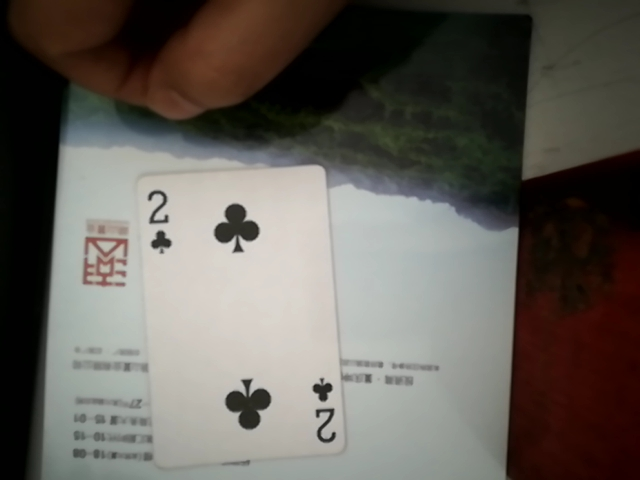mh 2: (131, 155, 339, 462)
